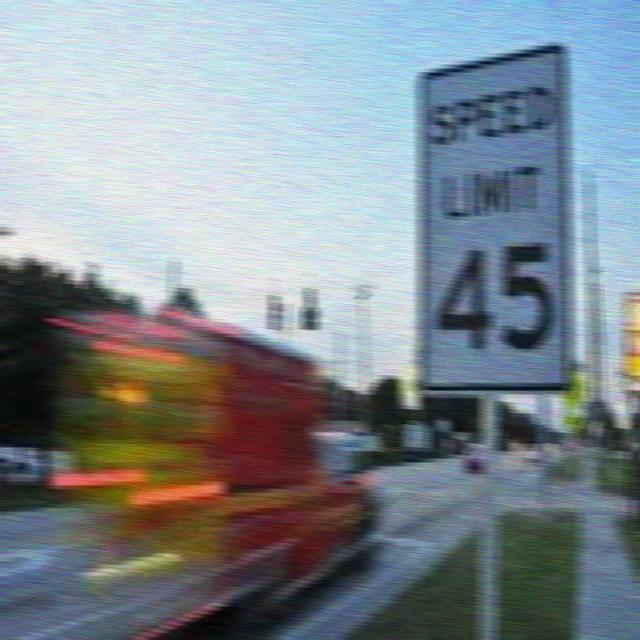speedLimit45: (414, 33, 578, 400)
